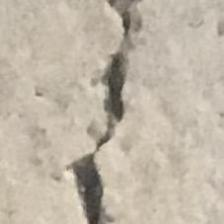Crack: (72, 0, 156, 224)
